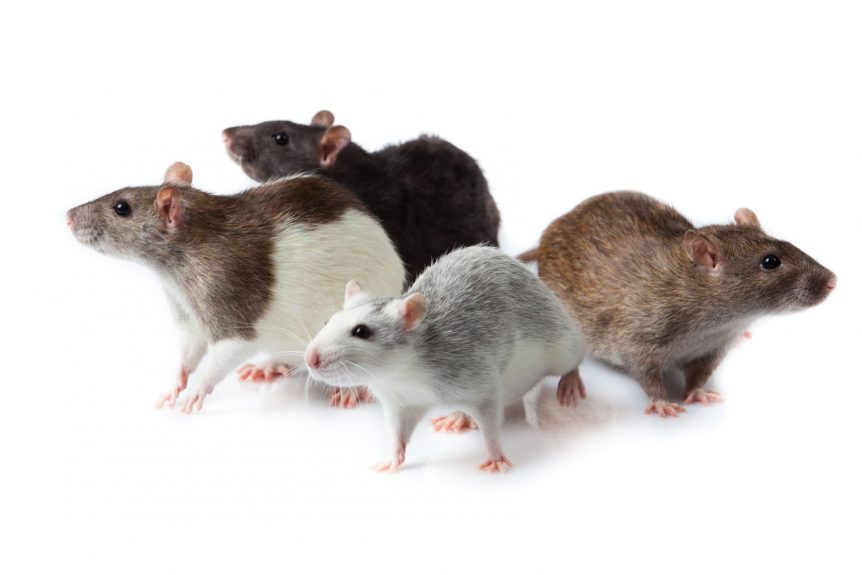rat: (514, 179, 844, 426), (293, 235, 603, 483), (54, 156, 321, 417), (217, 98, 505, 259)
